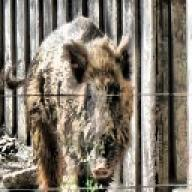boar: (1, 13, 134, 192)
